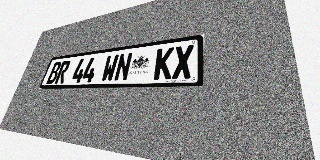4: (81, 57, 99, 83), (71, 58, 88, 83)
B: (46, 61, 62, 84)
K: (153, 47, 174, 80)
N: (113, 52, 133, 81)
R: (54, 60, 71, 84)
W: (100, 54, 119, 82)
X: (172, 44, 194, 79)
